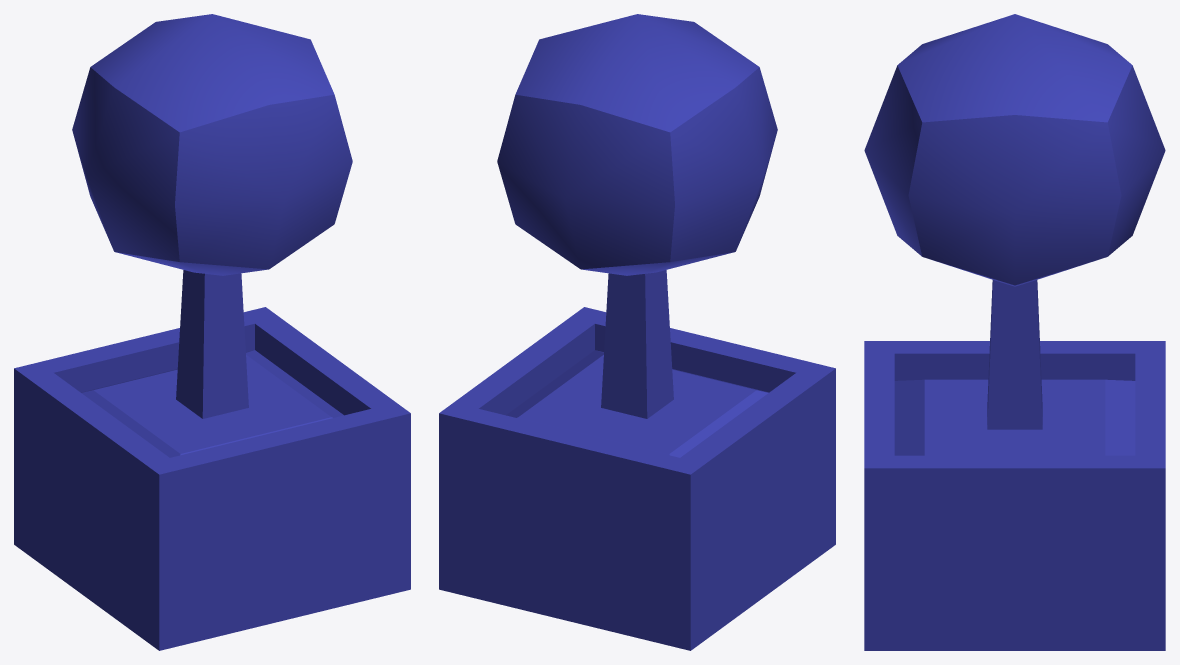
File: plant_1x2x1.FBX
3 renders of one model, left to right at view 1: azimuth 30°, elevation 25°; view 2: azimuth 150°, elevation 25°; view 3: azimuth 270°, elevation 25°, orthographic. The views are drawn at different scales.
Parts seen in each view (by area): view 1: planter, leaves, bark; view 2: planter, leaves, bark; view 3: planter, leaves, bark.
Boxes of the visible parts, x1,y1,x2,y2 form: planter: (14,307,410,650); leaves: (72,14,352,275); bark: (176,270,248,418); planter: (439,307,835,650); leaves: (497,14,777,275); bark: (601,270,673,418); planter: (864,341,1165,650); leaves: (864,14,1165,286); bark: (987,280,1042,429).
Bounding box in the file's own units: 1 × 2.1 × 1.
